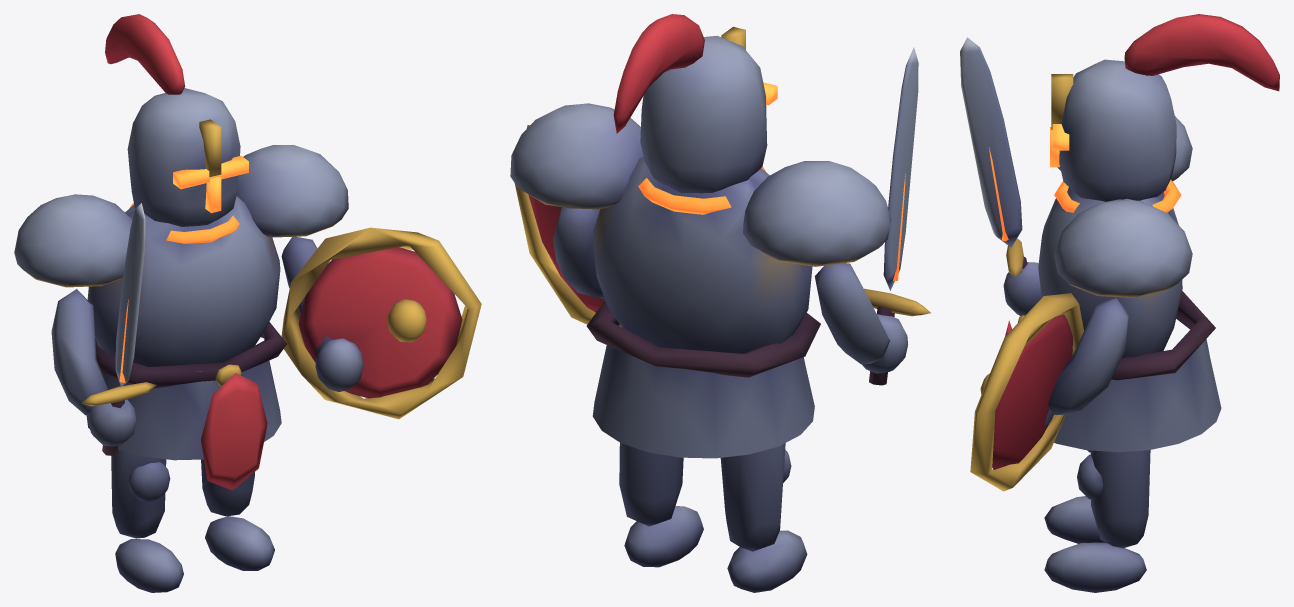
Rendered from knight.glb.
The picture shows the model from 3 angles, left to right: view 1: azimuth 30°, elevation 25°; view 2: azimuth 150°, elevation 25°; view 3: azimuth 270°, elevation 25°; orthographic projection. The views are drawn at different scales.
Visible parts, largest first — view 1: k_chest, k_shield, k_helm, k_rim, k_pauldron_R, k_pauldron, k_skirt, k_tabard, k_arm_R, k_plume, k_belt, k_blade (+13 smaller); view 2: k_chest, k_skirt, k_helm, k_pauldron_R, k_pauldron, k_belt, k_leg_R, k_plume, k_arm_R, k_leg, k_blade, k_foot_R (+7 smaller); view 3: k_helm, k_pauldron, k_skirt, k_plume, k_rim, k_shield, k_blade, k_chest, k_arm, k_leg, k_foot, k_belt (+8 smaller).
Boxes of the visible parts, x1,y1,x2,y2 form: k_chest: (87,196,280,366); k_shield: (298,247,462,398); k_helm: (127,88,240,226); k_rim: (281,227,481,419); k_pauldron_R: (14,194,132,287); k_pauldron: (236,145,348,237); k_skirt: (86,333,281,460); k_tabard: (201,373,267,490); k_arm_R: (51,289,108,415); k_plume: (105,14,185,94); k_belt: (95,322,286,388); k_blade: (115,203,145,386); k_chest: (593,156,812,353); k_skirt: (592,318,814,458); k_helm: (640,35,767,193); k_pauldron_R: (743,161,891,266); k_pauldron: (510,103,643,209); k_belt: (586,300,820,377); k_leg_R: (720,443,785,551); k_plume: (613,14,704,133); k_arm_R: (814,263,889,364); k_leg: (619,443,683,526); k_blade: (883,47,918,290); k_foot_R: (727,530,807,592); k_helm: (1059,59,1176,201); k_pauldron: (1054,199,1192,297); k_skirt: (1054,334,1221,452); k_plume: (1124,14,1279,91); k_rim: (970,293,1083,491); k_shield: (992,314,1072,469); k_blade: (960,37,1022,247); k_chest: (1038,187,1182,358); k_arm: (1048,298,1129,414); k_leg: (1090,450,1150,548); k_foot: (1044,542,1146,592); k_belt: (1111,291,1215,380).
Size of the model in its own units: 1.72 by 2.19 by 1.15.
